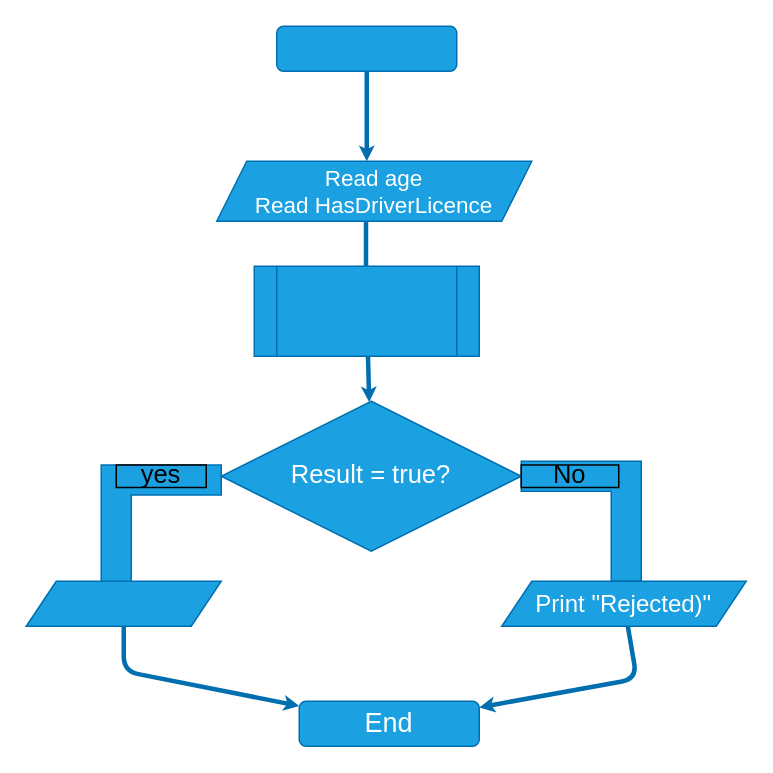
Image size: 773x773. Some labels were removed from this diagram. The box of each missing label's shape, as (x1, y1, x2, y2) in pixels:
Print "Hired": (25, 580, 221, 626)
result= age>21 and driver licence=true: (253, 265, 479, 356)
start: (275, 25, 457, 71)
